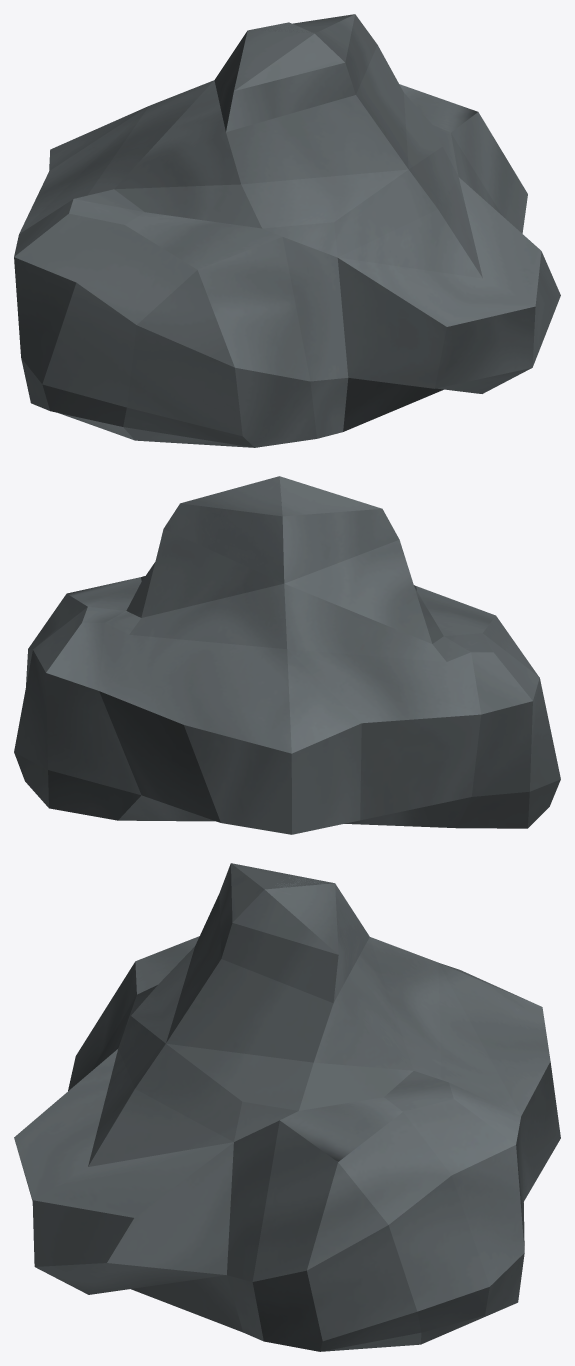
Rendered from Rock_Big.fbx.
The picture shows the model from 3 angles, top to bottom: view 1: azimuth 30°, elevation 25°; view 2: azimuth 150°, elevation 25°; view 3: azimuth 270°, elevation 25°; orthographic projection. The views are drawn at different scales.
Parts seen in each view (by area): view 1: Rock_Big; view 2: Rock_Big; view 3: Rock_Big.
Part boxes in pixels (x1=…): Rock_Big: x1=14, y1=14, x2=560, y2=447; Rock_Big: x1=14, y1=476, x2=560, y2=834; Rock_Big: x1=14, y1=863, x2=560, y2=1351.
Size of the model in its own units: 1836 by 1197 by 1510.
